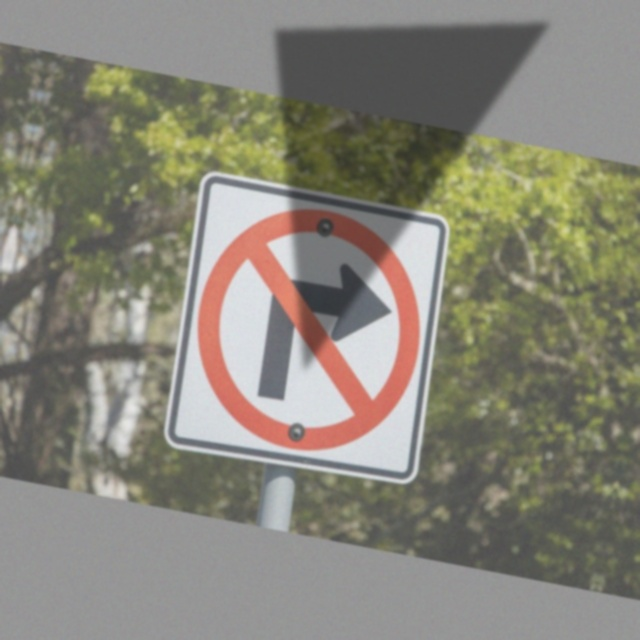Right_Turn_Prohibited: (172, 189, 449, 472)
